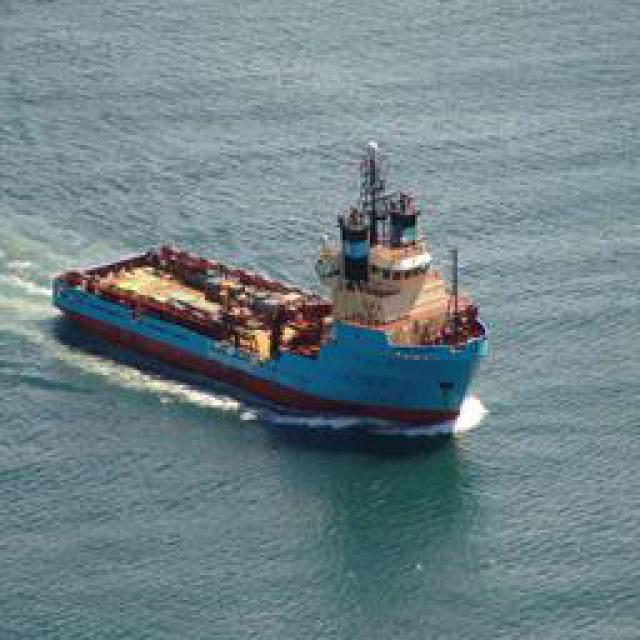Ship: (55, 162, 493, 442)
